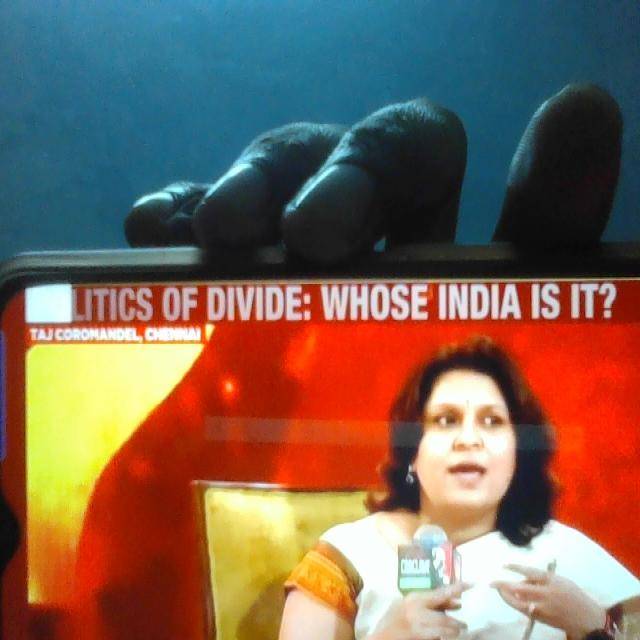fake: (414, 320, 524, 528)
